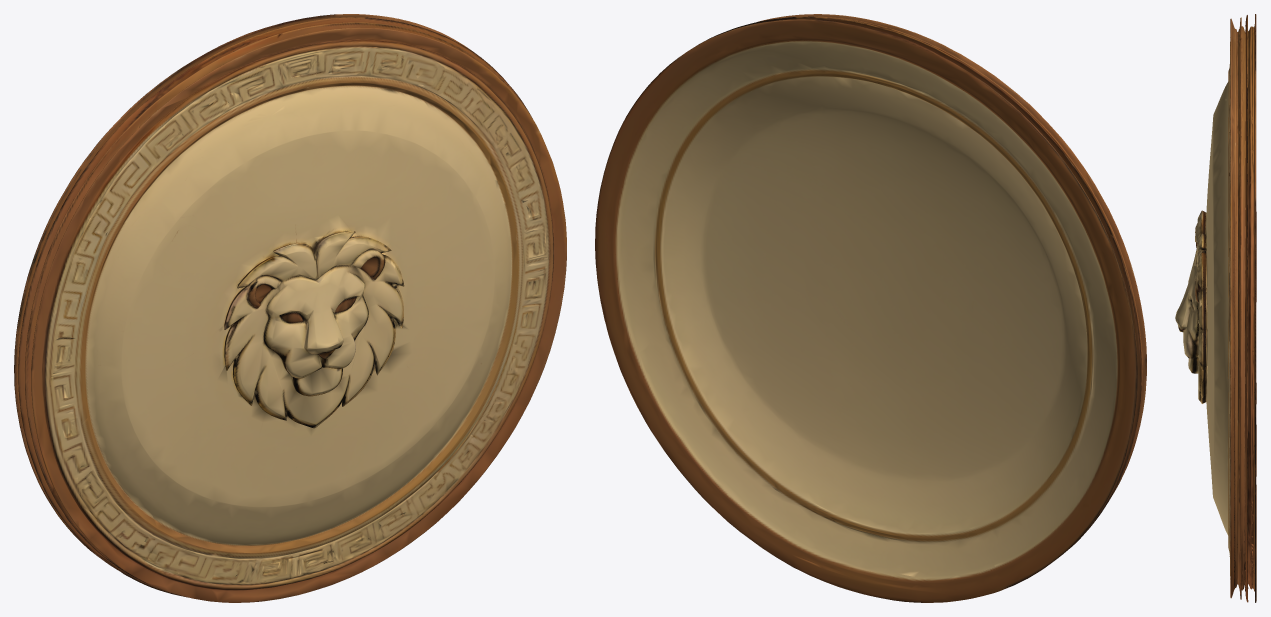
File: prop_shield.glb
3 renders of one model, left to right at view 1: azimuth 30°, elevation 25°; view 2: azimuth 150°, elevation 25°; view 3: azimuth 270°, elevation 25°, orthographic. The views are drawn at different scales.
Parts seen in each view (by area): view 1: material; view 2: material; view 3: material.
Boxes of the visible parts, x1,y1,x2,y2 form: material: (14, 14, 566, 602); material: (595, 14, 1146, 602); material: (1175, 14, 1256, 602).
Size of the model in its own units: 1.18 by 1.18 by 0.163.
1 material, 1 textured.
